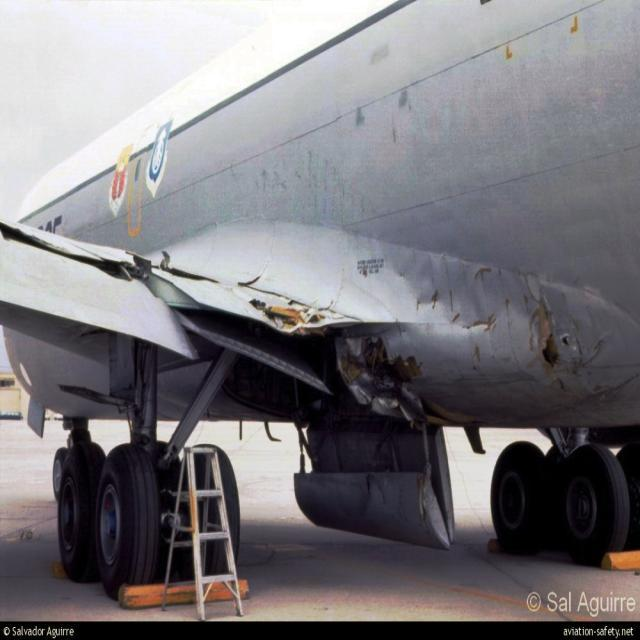crack: (536, 297, 571, 397)
dent: (388, 257, 526, 360)
